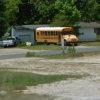Bus: (33, 23, 77, 46)
